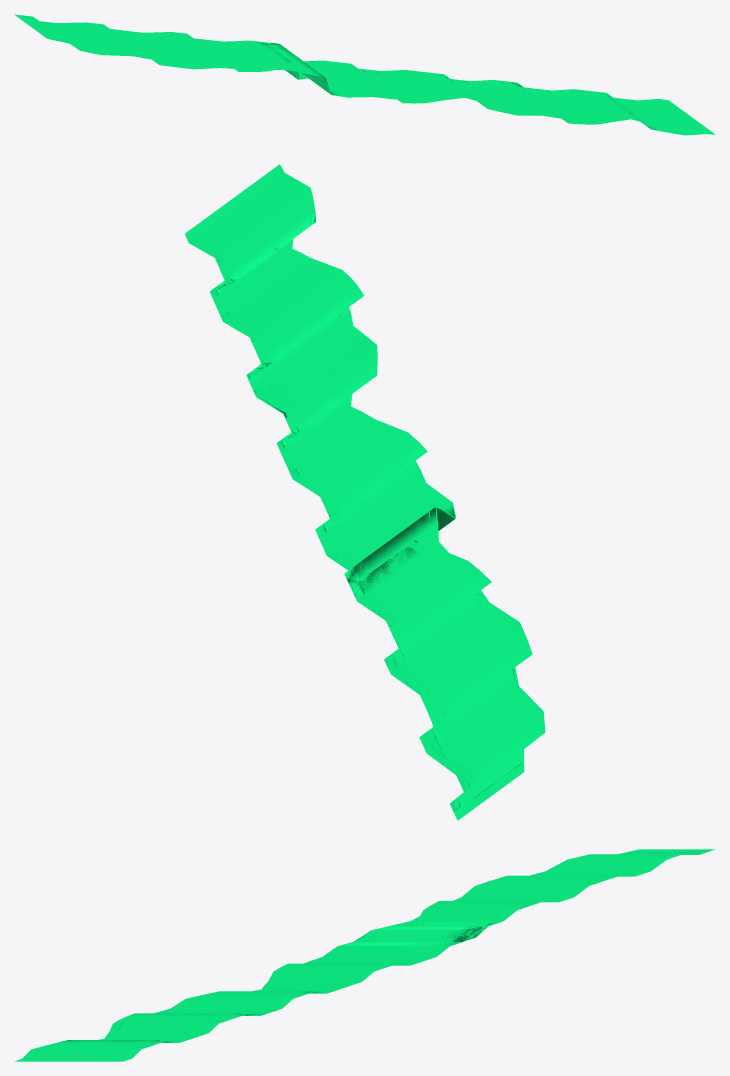
File: n_simplex_generic_ar_universal.glb
3 renders of one model, top to bottom at view 1: azimuth 30°, elevation 25°; view 2: azimuth 150°, elevation 25°; view 3: azimuth 270°, elevation 25°, orthographic. The views are drawn at different scales.
Parts seen in each view (by area): view 1: n_simplex_generic_ar; view 2: n_simplex_generic_ar; view 3: n_simplex_generic_ar.
Boxes of the visible parts, left/top/right/bottom form: n_simplex_generic_ar: left=14, top=14, right=715, bottom=135; n_simplex_generic_ar: left=185, top=164, right=545, bottom=820; n_simplex_generic_ar: left=15, top=849, right=714, bottom=1061.
Bounding box in the file's own units: 0.7449 × 0.0208 × 1.
